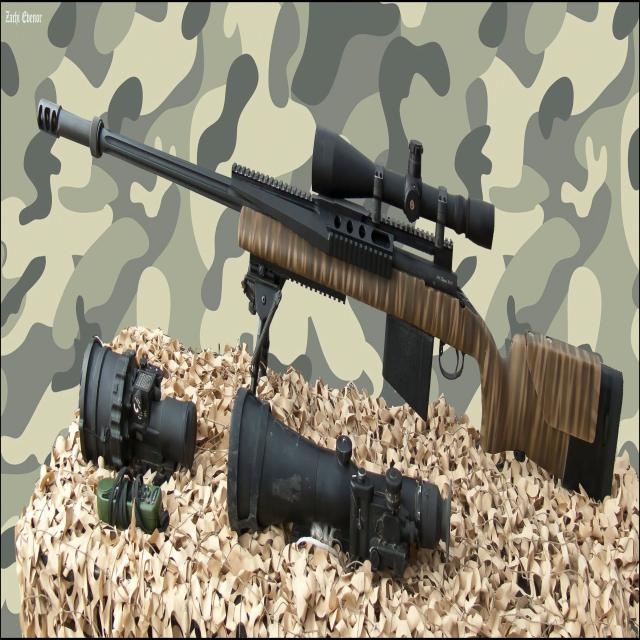Rifle: (37, 99, 625, 501)
